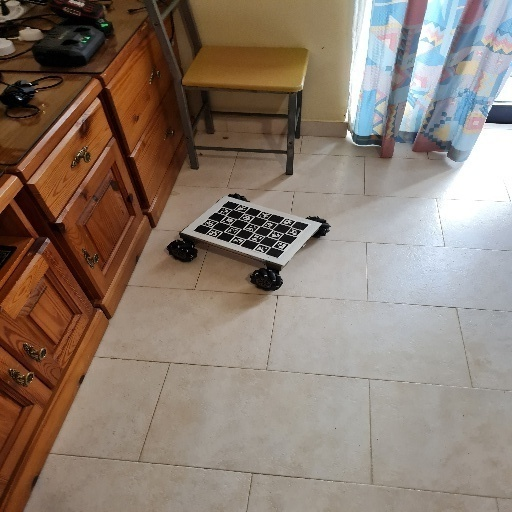Omniwheel: (166, 191, 335, 293)
